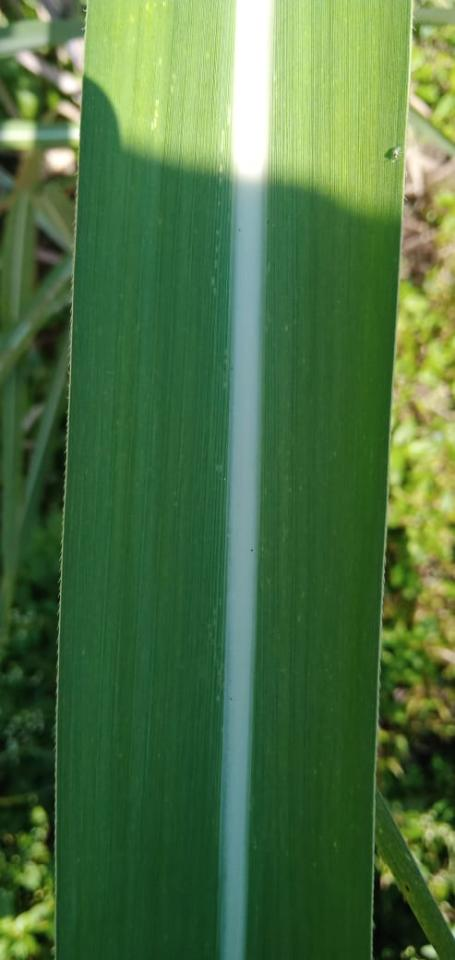Healthy: (56, 0, 409, 959)
